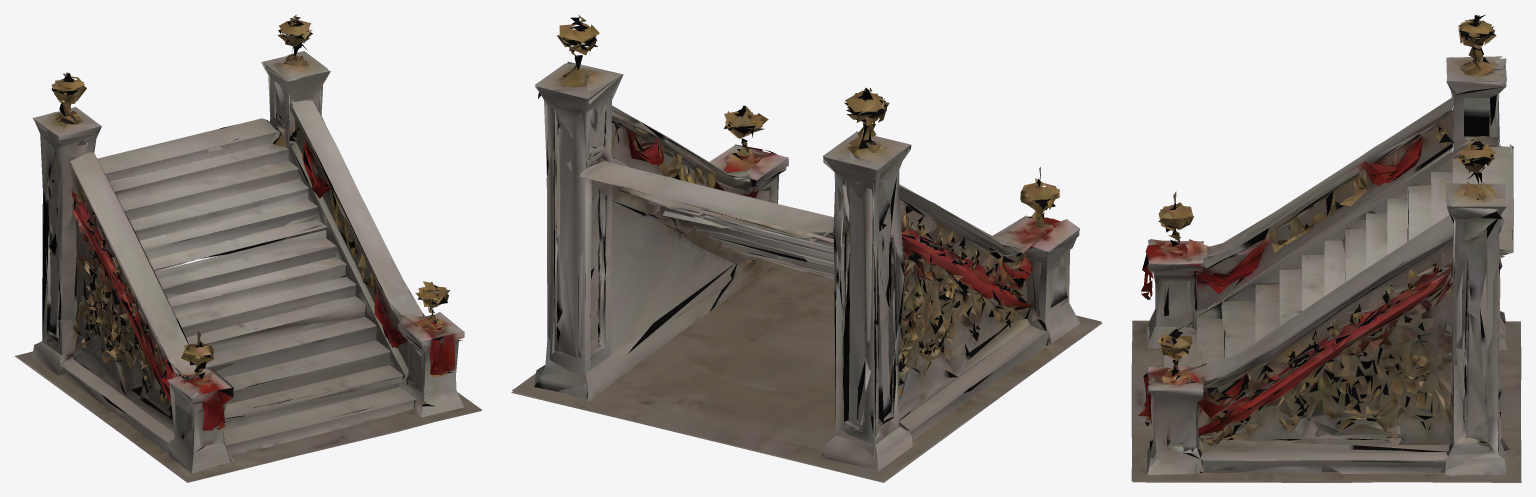
The model's file is town_steps.glb.
The picture shows the model from 3 angles, left to right: view 1: azimuth 30°, elevation 25°; view 2: azimuth 150°, elevation 25°; view 3: azimuth 270°, elevation 25°; orthographic projection. The views are drawn at different scales.
Parts seen in each view (by area): view 1: town_steps; view 2: town_steps; view 3: town_steps.
Part boxes in pixels (bbox=[...]): town_steps: bbox=[15, 14, 482, 482]; town_steps: bbox=[511, 15, 1102, 482]; town_steps: bbox=[1131, 14, 1521, 482].
Bounding box in the file's own units: 25.5 × 24.05 × 26.02.
1 material, 1 textured.
